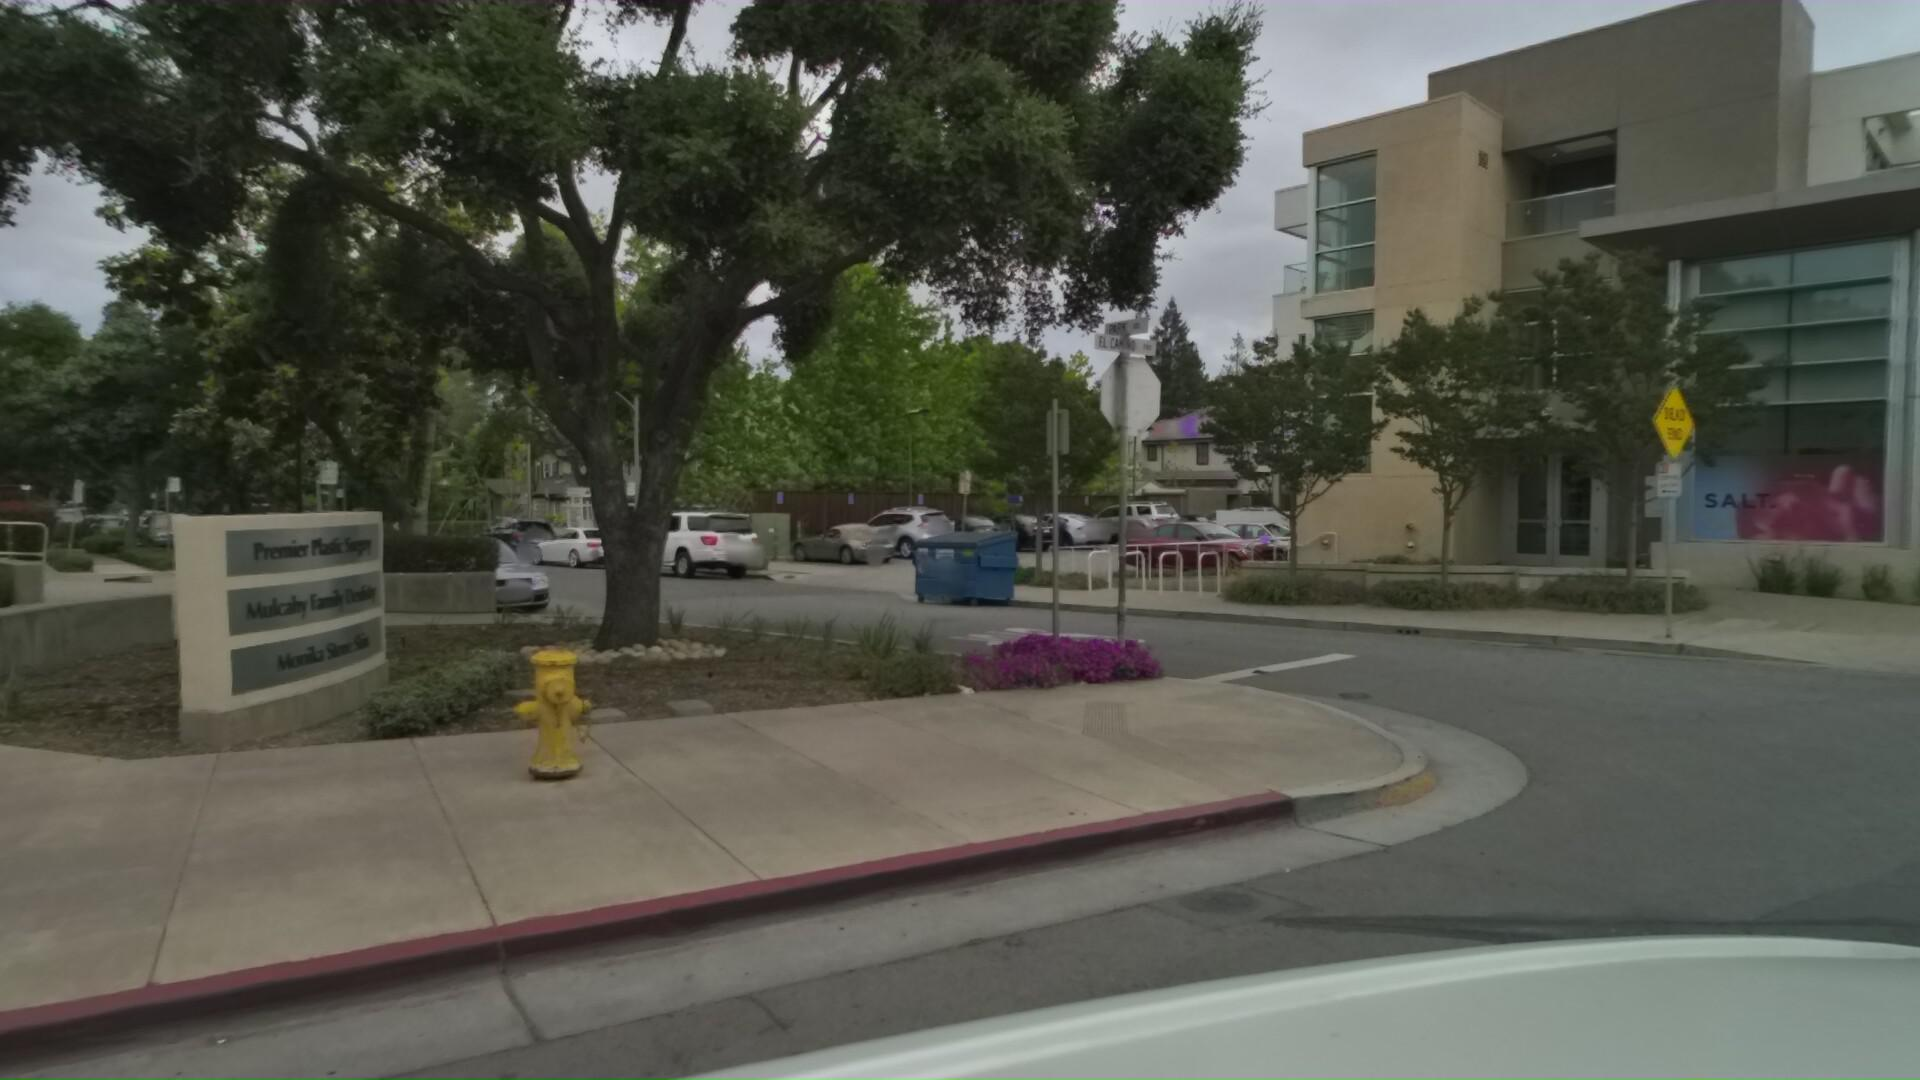car: (413, 529, 601, 626), (1127, 509, 1312, 580), (629, 502, 787, 583), (847, 500, 976, 560), (543, 516, 657, 568), (800, 516, 918, 566), (214, 517, 313, 574), (483, 516, 578, 564), (286, 510, 347, 541)
